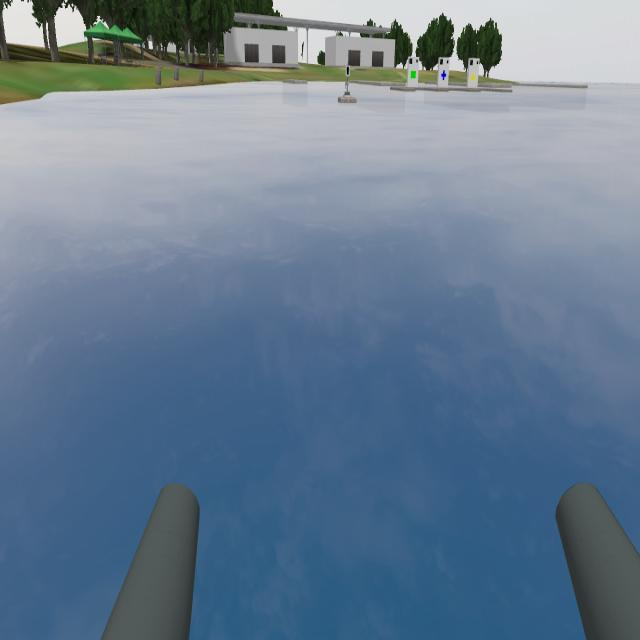black_pole: (344, 56, 353, 94)
